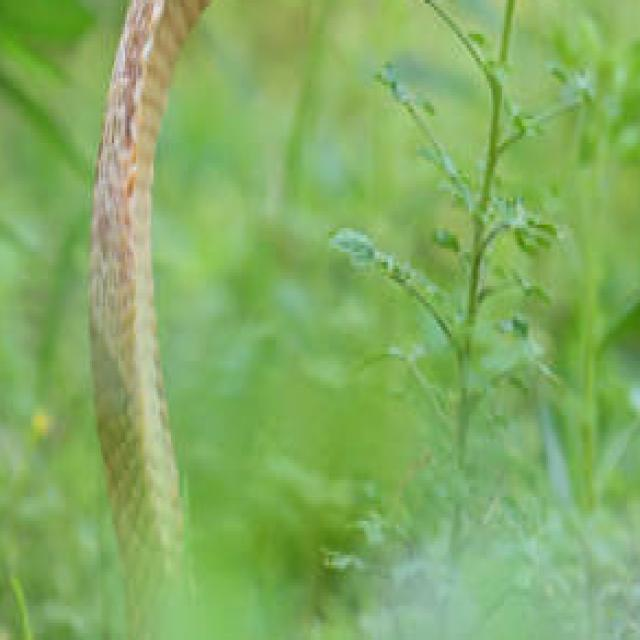Snake: (77, 0, 342, 640)
